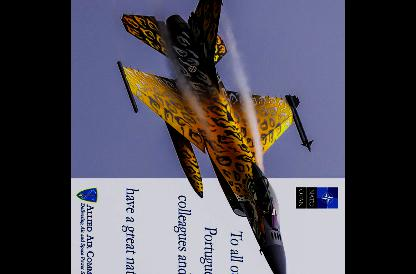F14: (117, 0, 316, 273)
